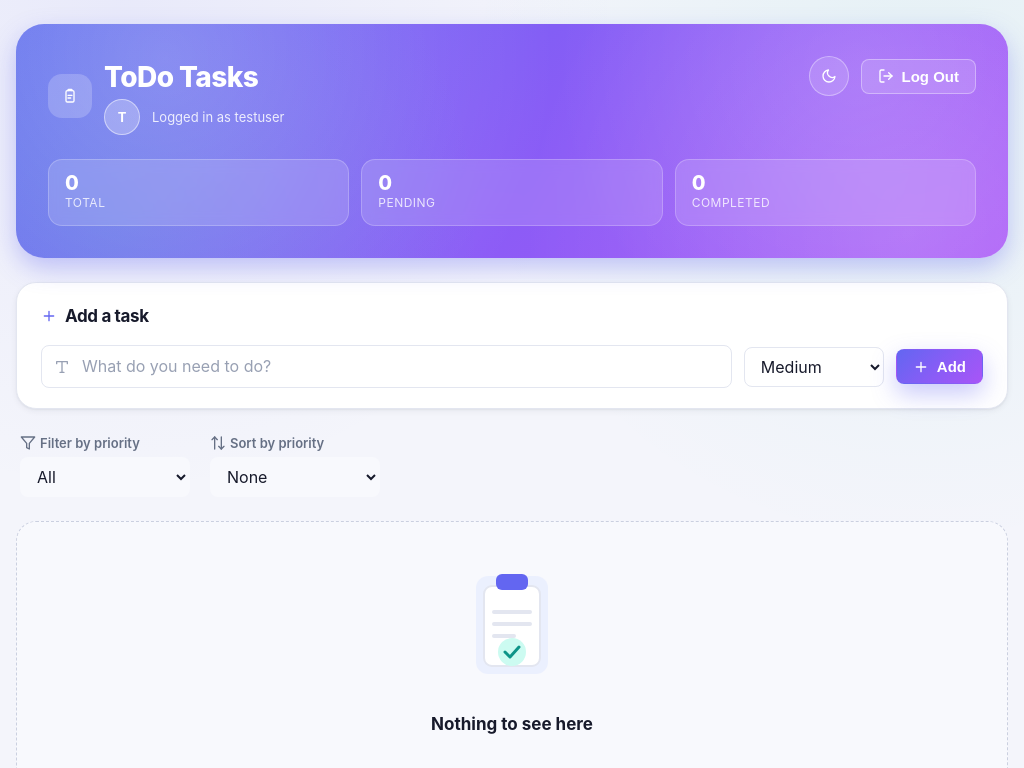
Test: App › adds a task with a selected priority
In the field named "New task title": {"x": 400, "y": 367} left=82, top=346, right=719, bottom=387, type "Buy milk"
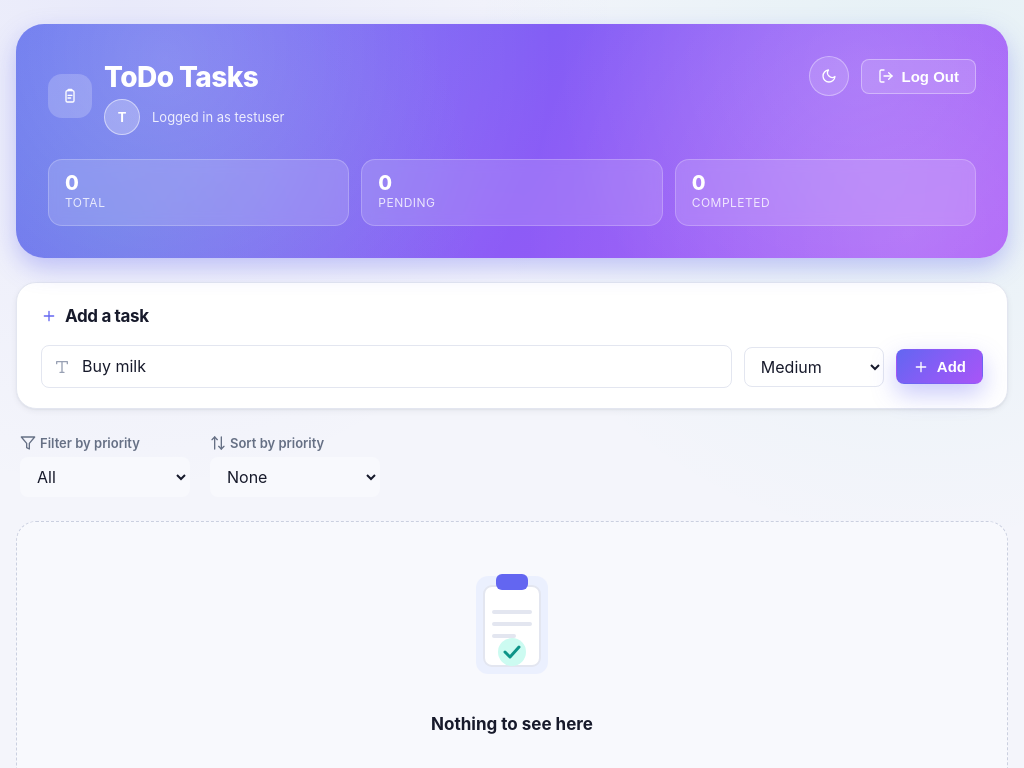
Select "High" in the dropdown named "Priority": {"x": 814, "y": 367} left=744, top=347, right=884, bottom=387
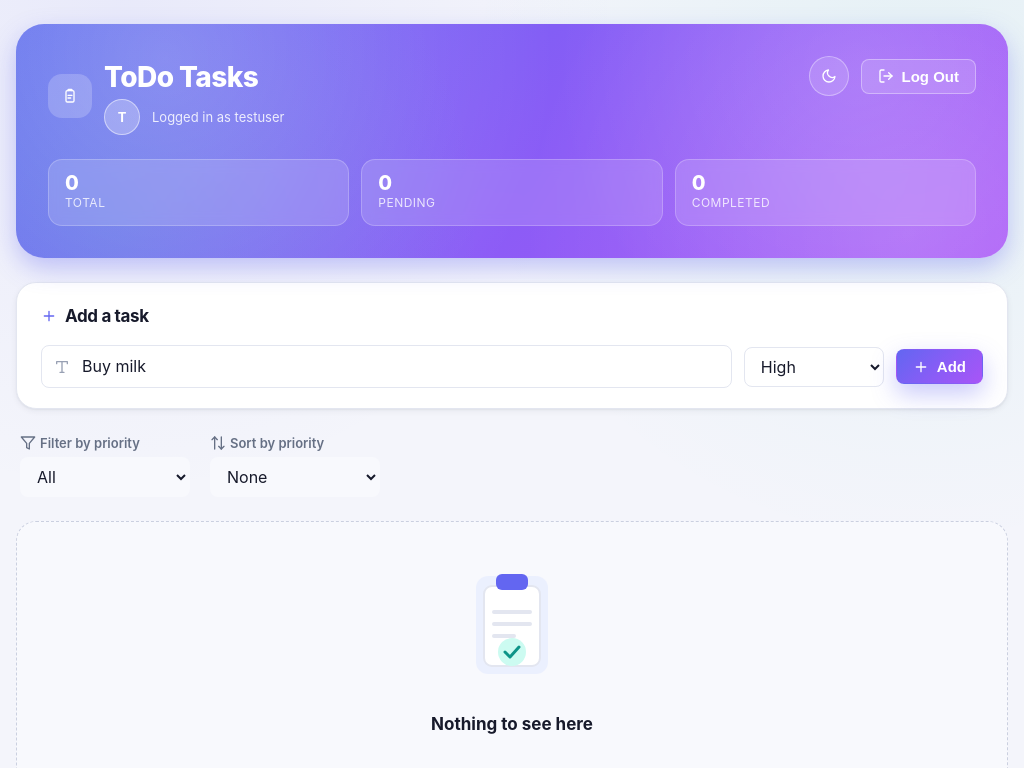
Click the button "Add": {"x": 939, "y": 367} left=896, top=349, right=983, bottom=384
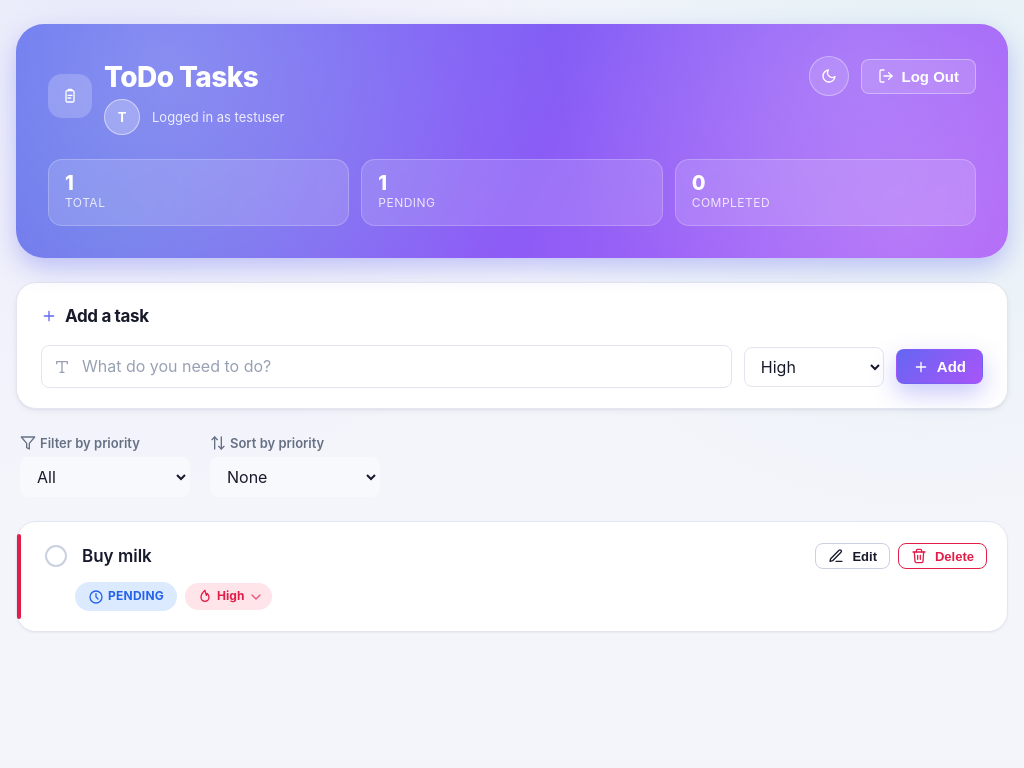
Expected: the text "Buy milk" is shown, left=82, top=546, right=152, bottom=566
